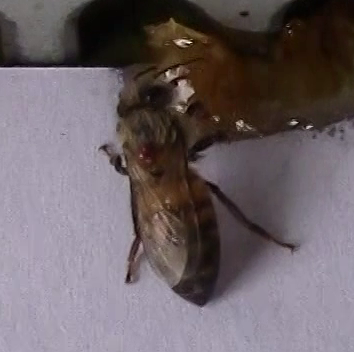Varroa destructor: (137, 142, 158, 168)
